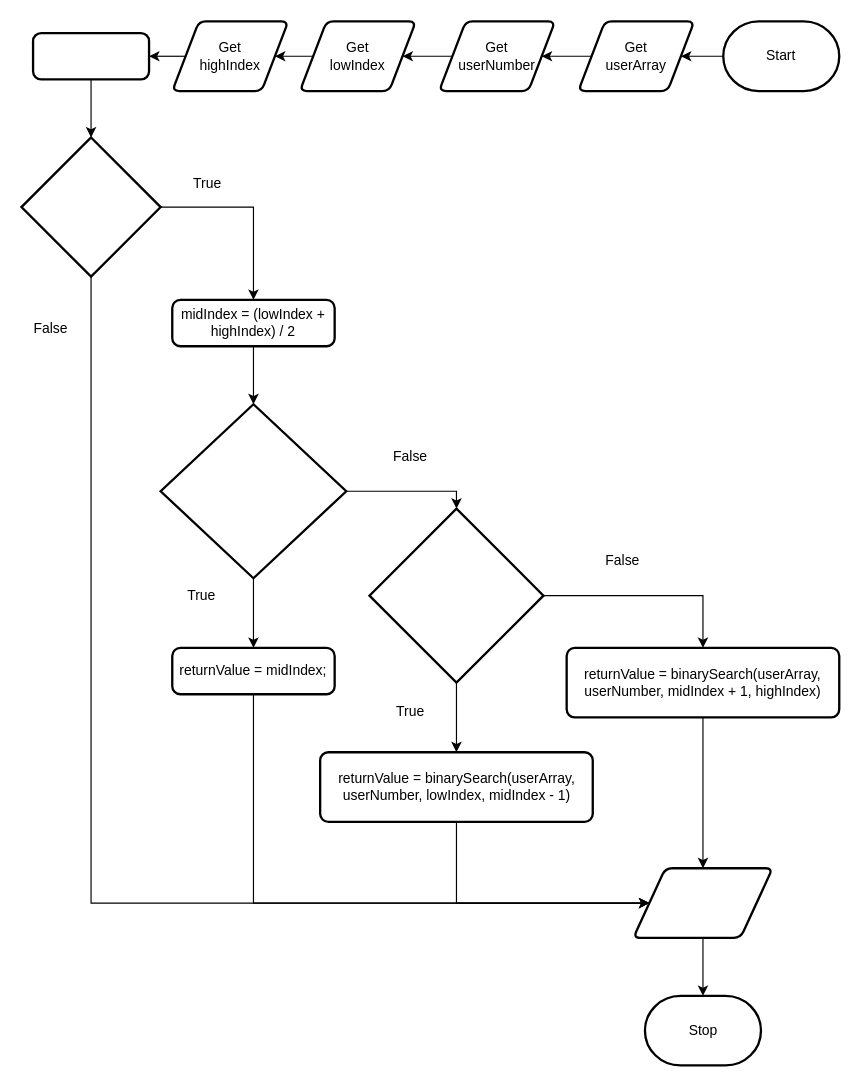
Image size: 860x1086. Some labels were removed from this diagram. The shapes that lost their labels are listed below. From the top down, each one's centre as x and y in pixels, then its label:
At point 90,55: "returnValue = -1".
At point 90,206: "if lowIndex <= highIndex".
At point 253,491: "if userArray[midIndex] == userNumber".
At point 456,595: "if userArray[midIndex] > userNumber".
At point 702,902: "return returnValue".
